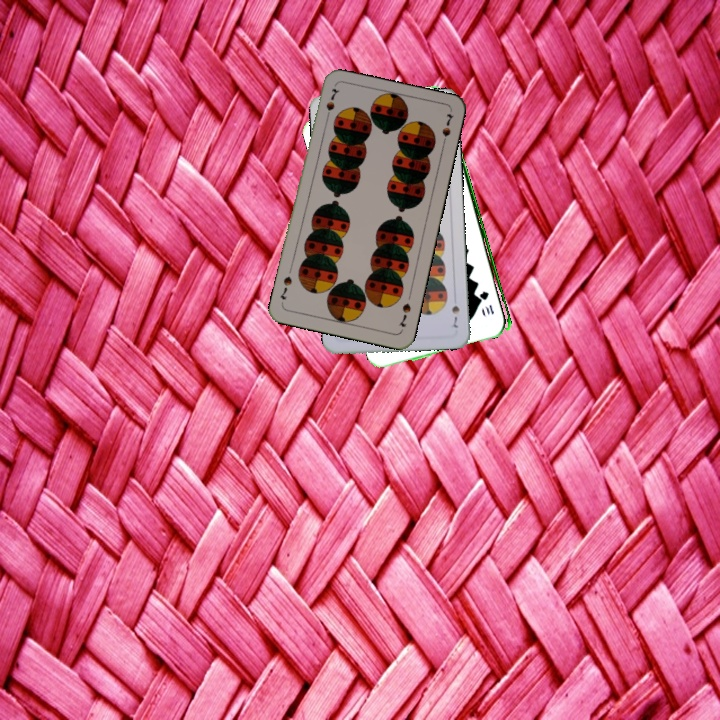G10: (478, 287, 496, 317)
S7: (322, 84, 341, 123), (395, 299, 414, 330), (447, 301, 462, 330)
